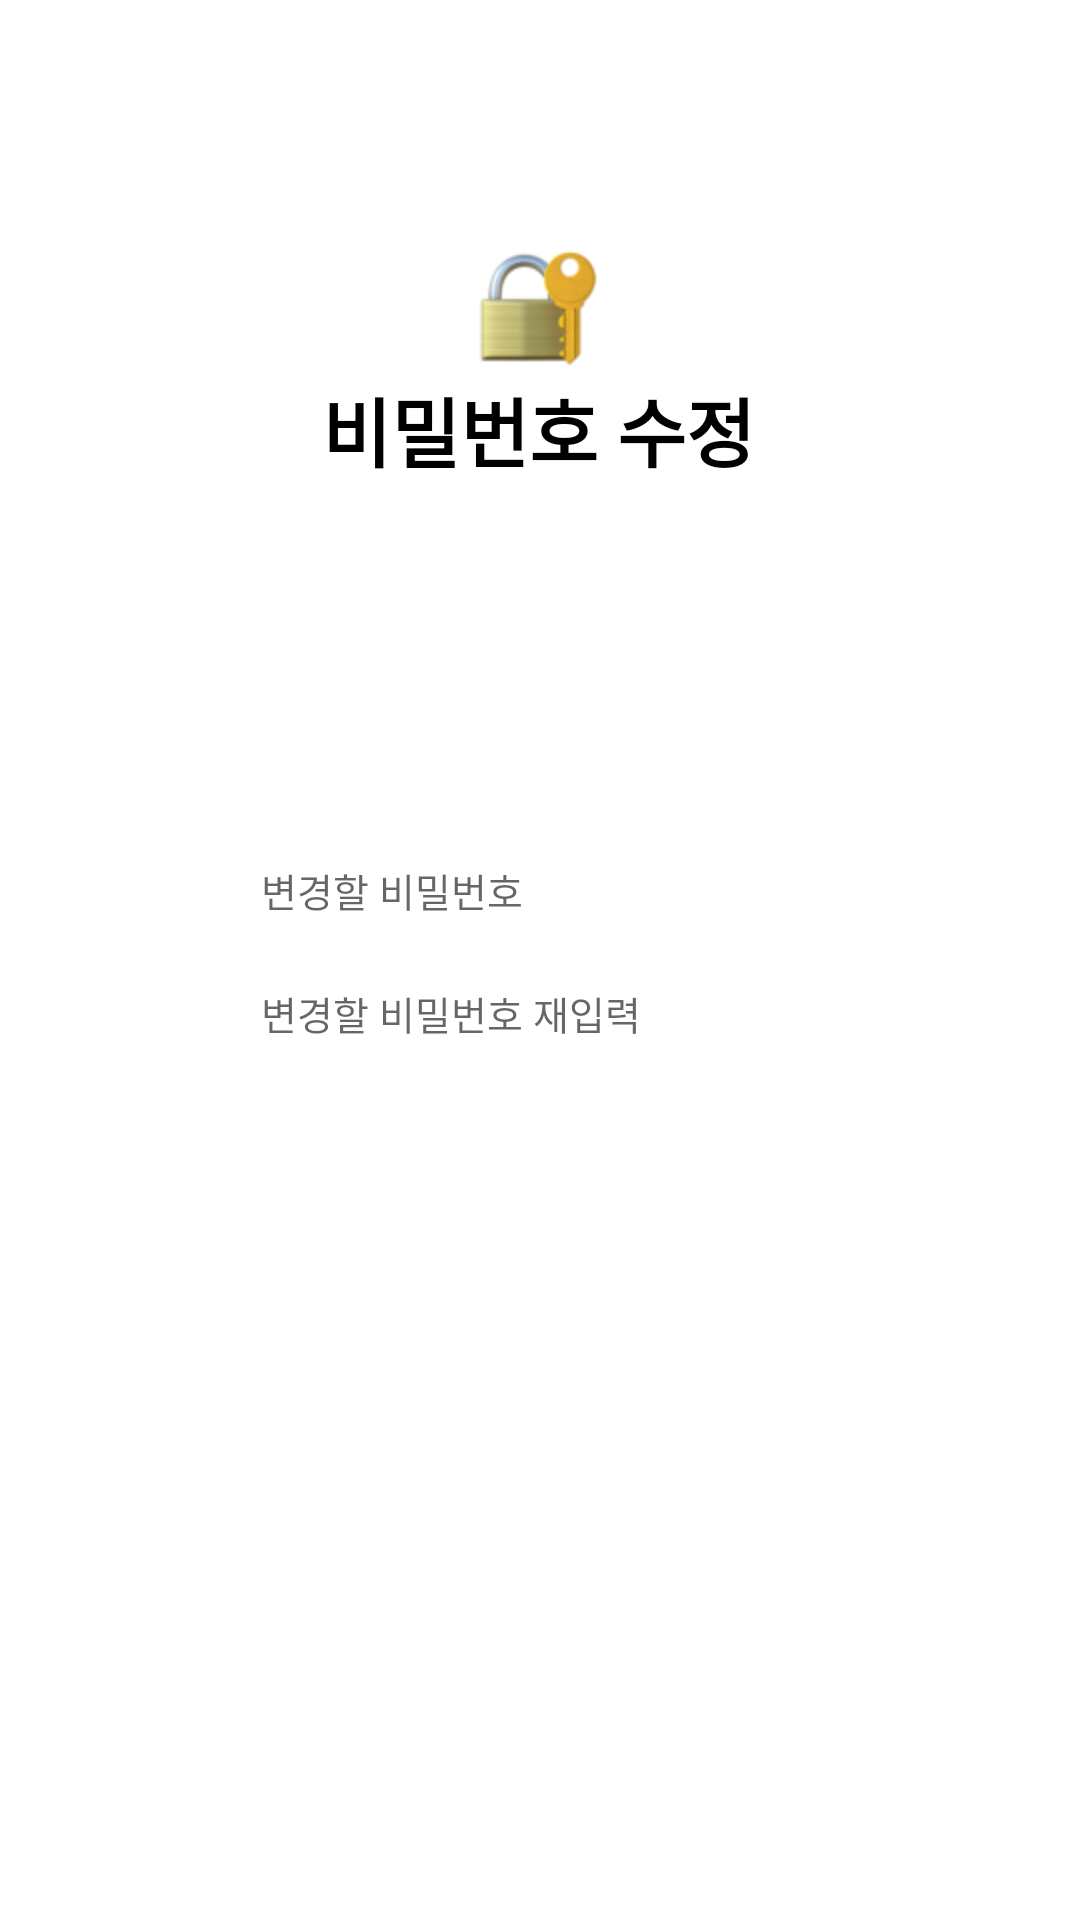

Point at icon controls on the screen. Image size 1080×1920, points as point (x, y).
lock: point (538, 308)
